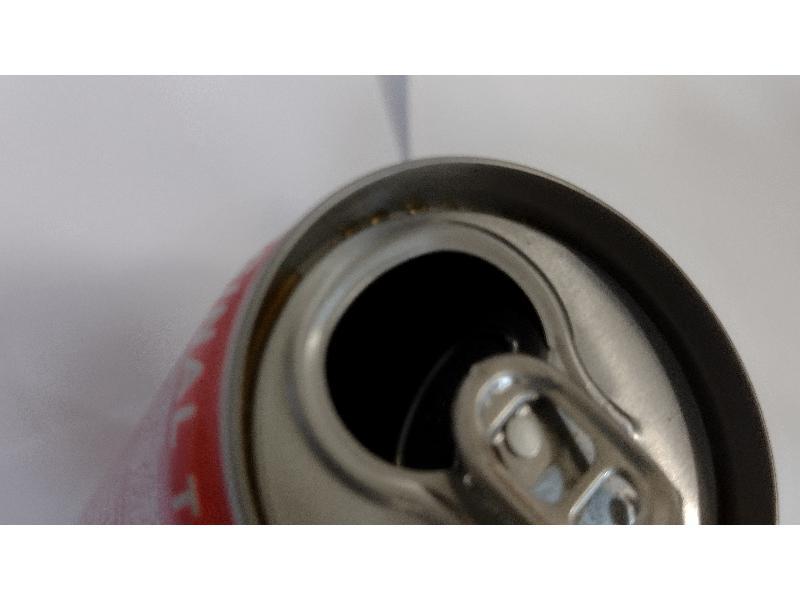can: (121, 145, 782, 524)
